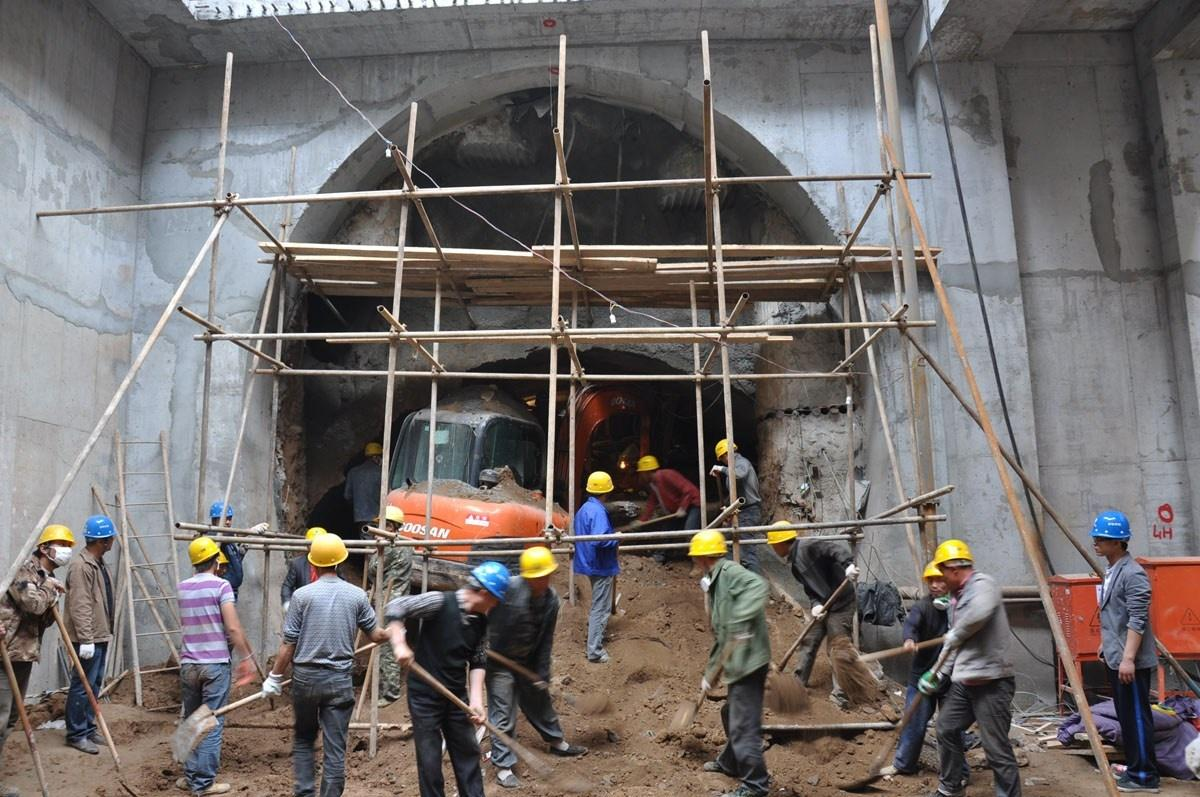Helmet: (1087, 507, 1133, 555), (187, 534, 225, 575), (83, 516, 119, 555)
NoVest: (1094, 562, 1154, 662), (293, 579, 359, 667), (177, 574, 232, 662)
